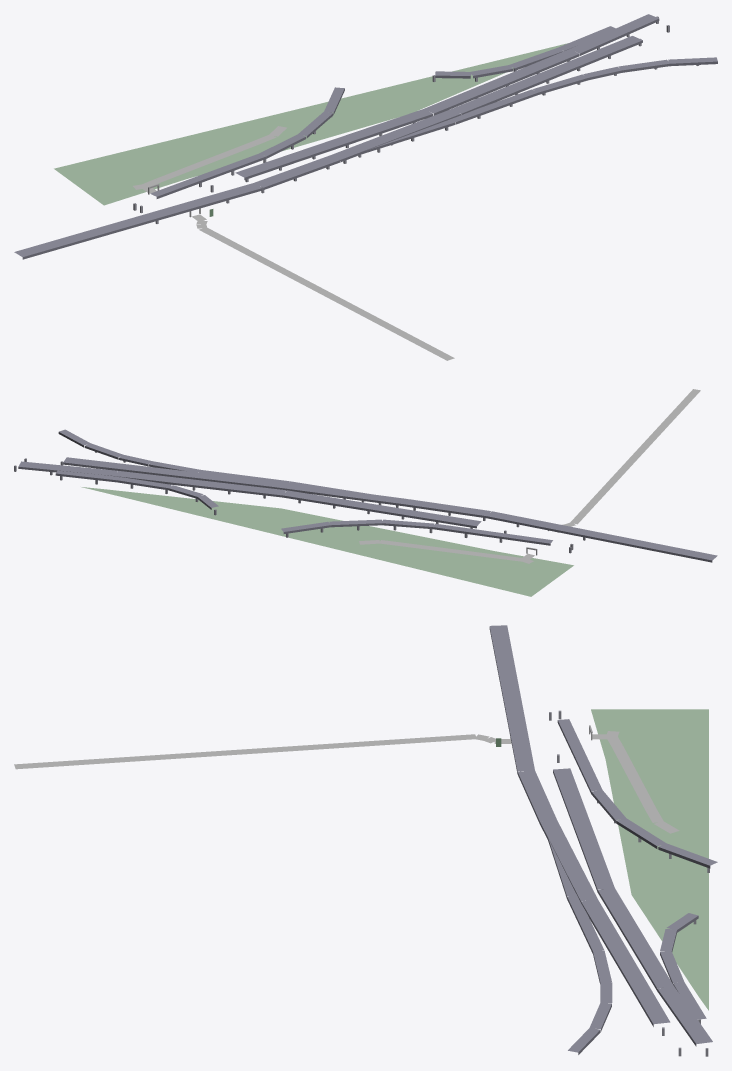
3 views of the same model, one above another, from view 1: azimuth 30°, elevation 25°; view 2: azimuth 150°, elevation 25°; view 3: azimuth 270°, elevation 25° (orthographic). The views are drawn at different scales.
Bounding box in the file's own units: 591 × 8.81 × 418.
